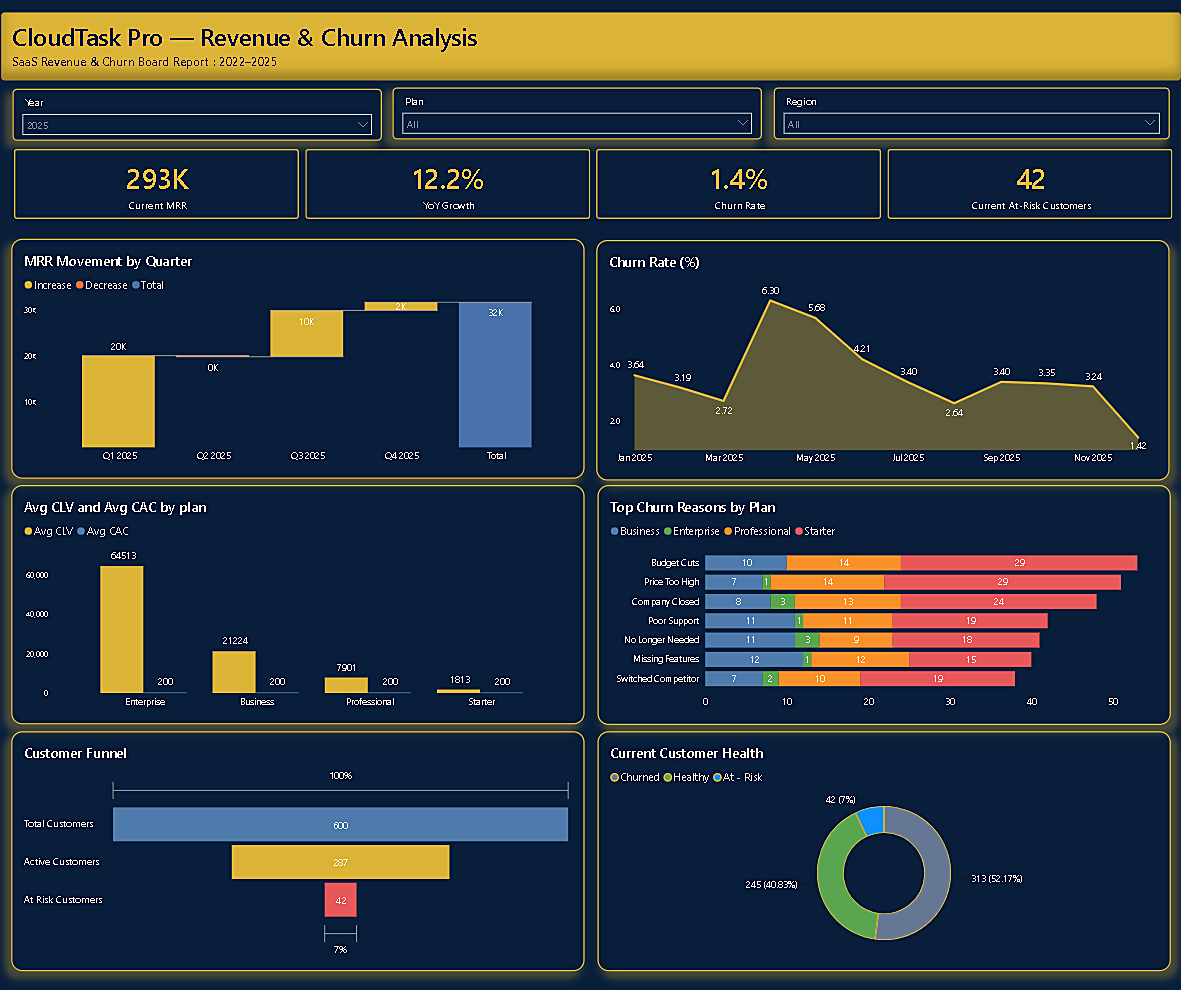

This screenshot's page, from the dashboard's own definition file:
{"tool":"powerbi","page":{"name":"CloudTask-Pro-SaaS-Churn-Analysi","canvas":[1600,1340],"ordinal":0},"visuals":[{"type":"cardVisual","fields":{"Data":["Monthly Measures.Current MRR","Monthly Measures.MRR YoY Growth %","Monthly Measures.Current Month Churn Rate","Subscription Measures.At Risk Customers"]},"box":[7.6,189.4,1592.4,119.7],"z":0},{"type":"slicer","fields":{"Values":["Date.Year"]},"box":[16.7,120,500,70],"z":1000},{"type":"slicer","title":"uhn","fields":{"Values":["subscriptions.plan"]},"box":[532,119,500,70],"z":2000},{"type":"slicer","fields":{"Values":["subscriptions.region"]},"box":[1048,119,536,70],"z":3000},{"type":"waterfallChart","title":"MRR Movement by Quarter","fields":{"Category":["Date.Quarter Label"],"Y":["Monthly Measures.MRR Change (MoM)"]},"box":[16,324,776,325],"z":4000},{"type":"funnel","title":"Customer Funnel","fields":{"Y":["Subscription Measures.Total Customers","Subscription Measures.Active Customers","Subscription Measures.At Risk Customers"]},"box":[16,990,776,325],"z":5000},{"type":"clusteredColumnChart","title":"Avg CLV and Avg CAC  by plan","fields":{"Category":["subscriptions.plan"],"Y":["Subscription Measures.Avg CLV","Monthly Measures.Avg CAC (Current Year)"]},"box":[15.7,657.1,775.7,324.3],"z":7000},{"type":"barChart","title":"Top Churn Reasons by Plan","fields":{"Category":["subscriptions.churn_reason"],"Series":["subscriptions.plan"],"Y":["CountNonNull(subscriptions.customer_id)"]},"box":[808,657,776,325],"z":8000},{"type":"donutChart","title":"Current Customer Health","fields":{"Category":["subscriptions.Health Status"],"Y":["CountNonNull(subscriptions.customer_id)"]},"box":[808,990,776,325],"z":9000},{"type":"textbox","box":[0,16,1600,95],"z":10000},{"type":"lineChart","title":"Churn Rate (%)","fields":{"Category":["monthly_revenue.month"],"Y":["Avg(monthly_revenue.monthly_churn_rate_pct)"]},"box":[807.6,324.2,775.8,325.8],"z":11000}]}

Visuals, with their boxes in screenshot pixels (x1, y1, x2, y2), scaled from the page's 1600x1340 canvas onto the 1181x990 screenshot:
cardVisual - Monthly Measures.Current MRR x Monthly Measures.MRR YoY Growth %: (left=6, top=140, right=1180, bottom=228)
slicer - Date.Year: (left=12, top=89, right=381, bottom=140)
"uhn" slicer: (left=393, top=88, right=762, bottom=140)
slicer - subscriptions.region: (left=774, top=88, right=1169, bottom=140)
"MRR Movement by Quarter" waterfallChart: (left=12, top=239, right=585, bottom=479)
"Customer Funnel" funnel: (left=12, top=731, right=585, bottom=972)
"Avg CLV and Avg CAC  by plan" clusteredColumnChart: (left=12, top=485, right=584, bottom=725)
"Top Churn Reasons by Plan" barChart: (left=596, top=485, right=1169, bottom=726)
"Current Customer Health" donutChart: (left=596, top=731, right=1169, bottom=972)
textbox: (left=0, top=12, right=1180, bottom=82)
"Churn Rate (%)" lineChart: (left=596, top=240, right=1169, bottom=480)
